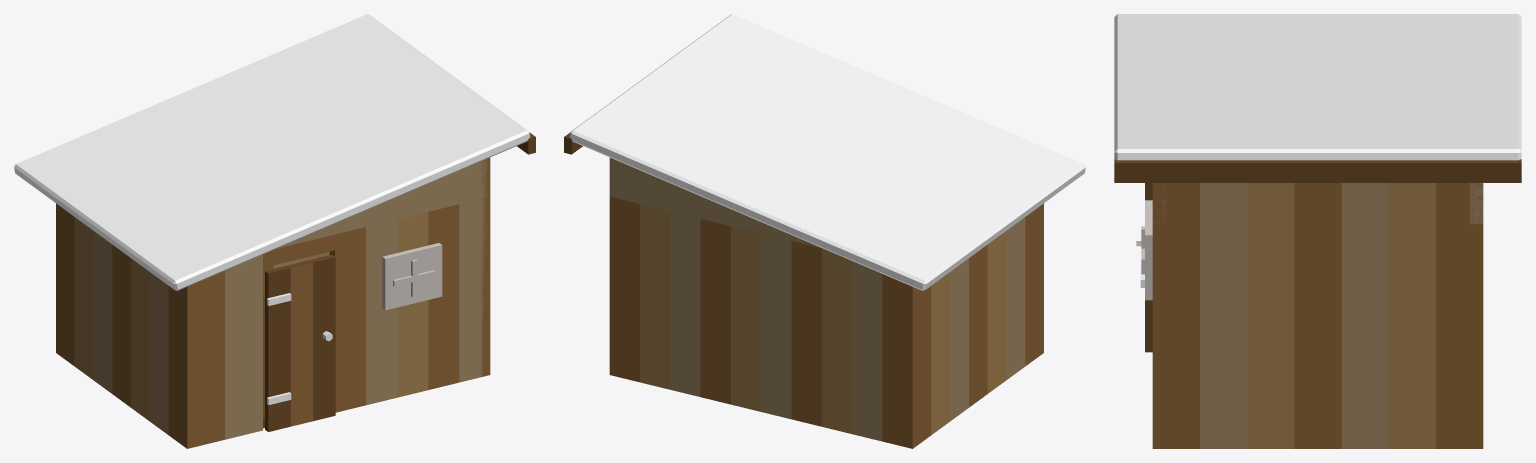
The model's file is shed.glb.
3 views of the same model, side by side, from view 1: azimuth 30°, elevation 25°; view 2: azimuth 150°, elevation 25°; view 3: azimuth 270°, elevation 25° (orthographic). The views are drawn at different scales.
Visible parts, largest first — view 1: Shed; view 2: Shed; view 3: Shed.
Boxes of the visible parts, x1,y1,x2,y2 form: Shed: (14, 14, 535, 448); Shed: (564, 14, 1085, 448); Shed: (1114, 14, 1521, 448).
Size of the model in its own units: 4.77 by 3.14 by 3.7.
